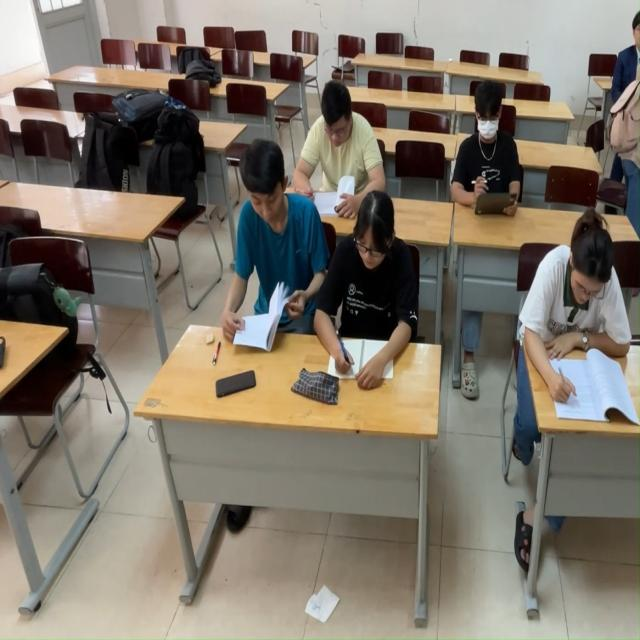read: (518, 205, 640, 430), (220, 138, 327, 353), (313, 190, 424, 387), (450, 74, 529, 226), (304, 82, 389, 216)
